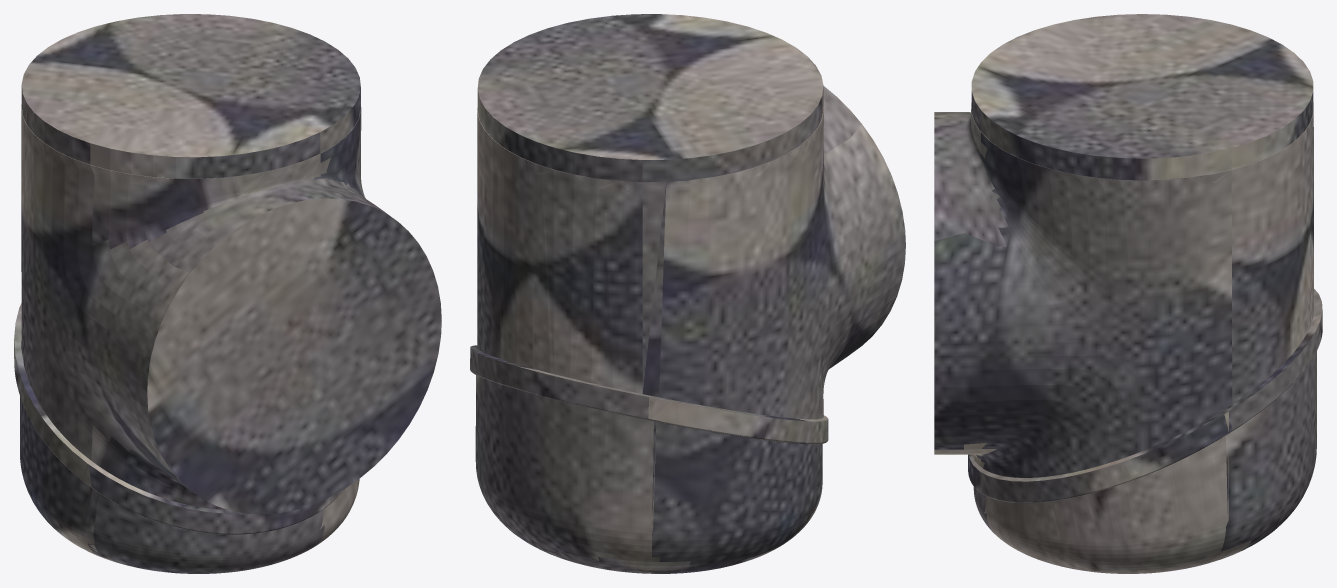
Rendered from wrist1.dae.
3 views of the same model, side by side, from view 1: azimuth 30°, elevation 25°; view 2: azimuth 150°, elevation 25°; view 3: azimuth 270°, elevation 25° (orthographic).
Visible parts, largest first — view 1: wrist1; view 2: wrist1; view 3: wrist1.
Part boxes in pixels (<box>): wrist1: <box>14,14,441,573</box>; wrist1: <box>470,14,905,573</box>; wrist1: <box>934,14,1322,573</box>.
Size of the model in its own units: 0.0775 by 0.0849 by 0.1047.
